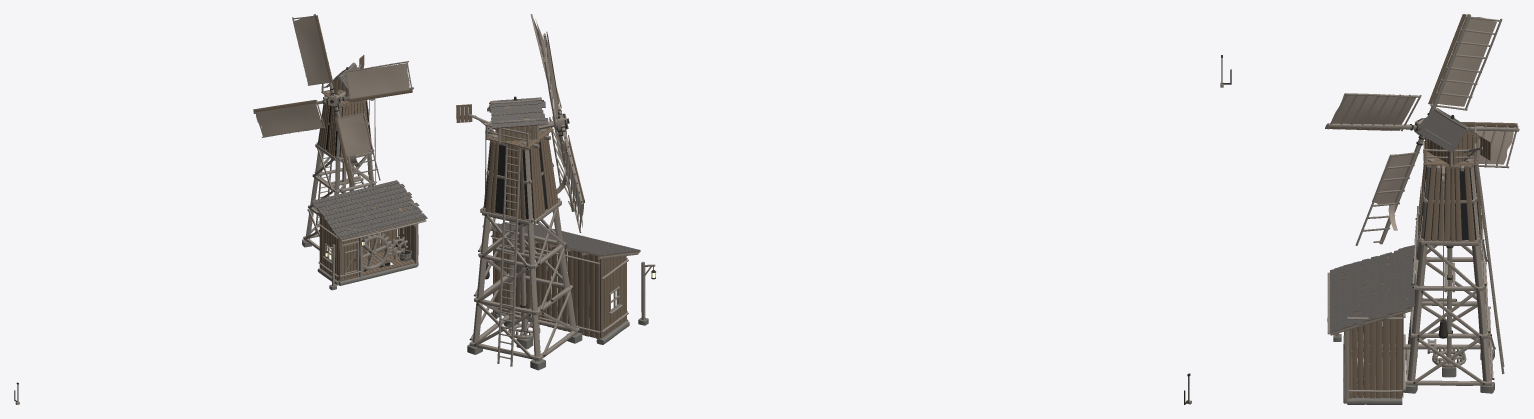
File: moving.glb
The picture shows the model from 3 angles, left to right: view 1: azimuth 30°, elevation 25°; view 2: azimuth 150°, elevation 25°; view 3: azimuth 270°, elevation 25°; orthographic projection. The views are drawn at different scales.
Parts seen in each view (by area): view 1: static, rotor, lay; view 2: static, rotor, vshaft; view 3: static, rotor, vshaft, lay.
Boxes of the visible parts, box(x1,y1,x2,y2) form: static: box(302, 55, 427, 290); rotor: box(253, 14, 413, 185); lay: box(363, 233, 392, 271); static: box(456, 96, 655, 370); rotor: box(509, 14, 584, 232); vshaft: box(508, 127, 540, 338); static: box(1327, 108, 1504, 404); rotor: box(1325, 14, 1519, 245); vshaft: box(1432, 246, 1466, 367); lay: box(1357, 333, 1440, 354).
Bounding box in the file's own units: 26.81 × 13.62 × 10.55.
